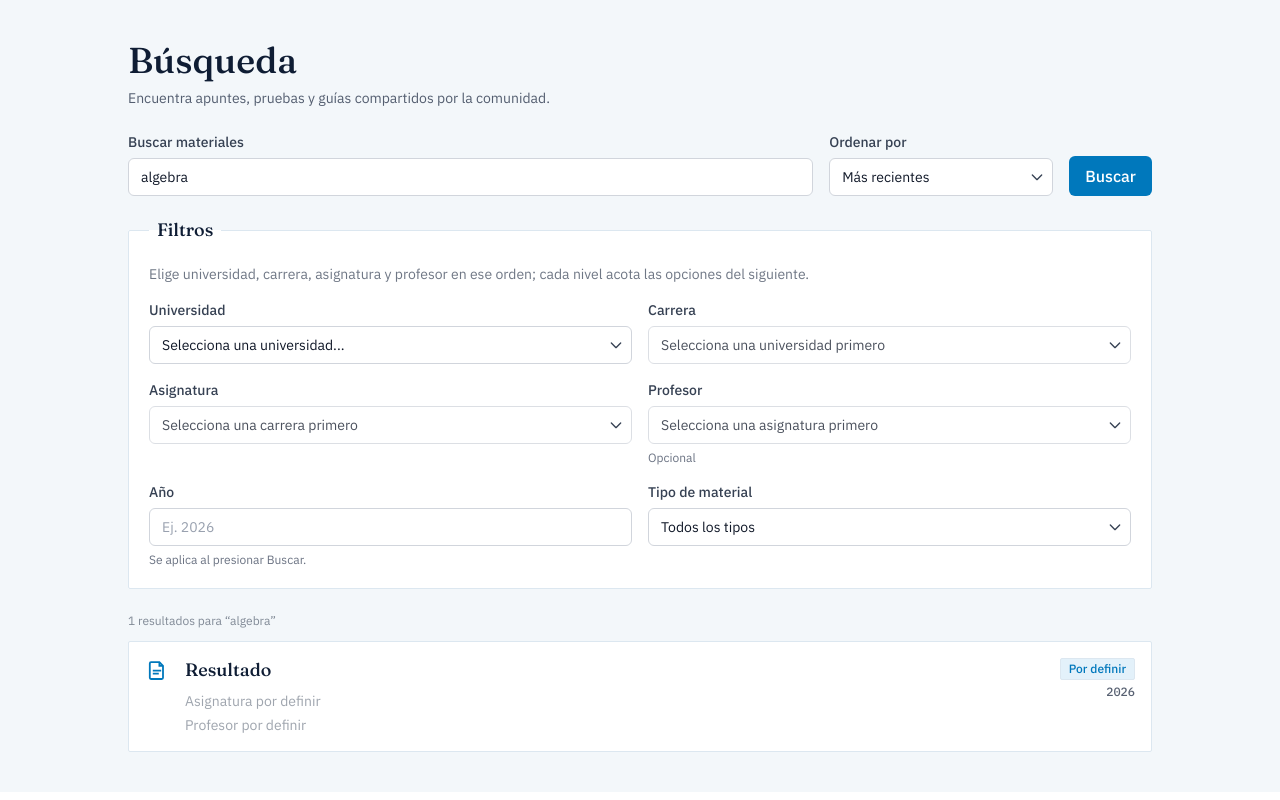
Test: SearchPage: filtros académicos › rechaza un año fuera de rango sin consultar al backend
Expected: the heading "Resultado" is shown, [185,658,271,681]
Type "1800" into the field labelled "Año" at (390, 527), box [149,508,632,546]
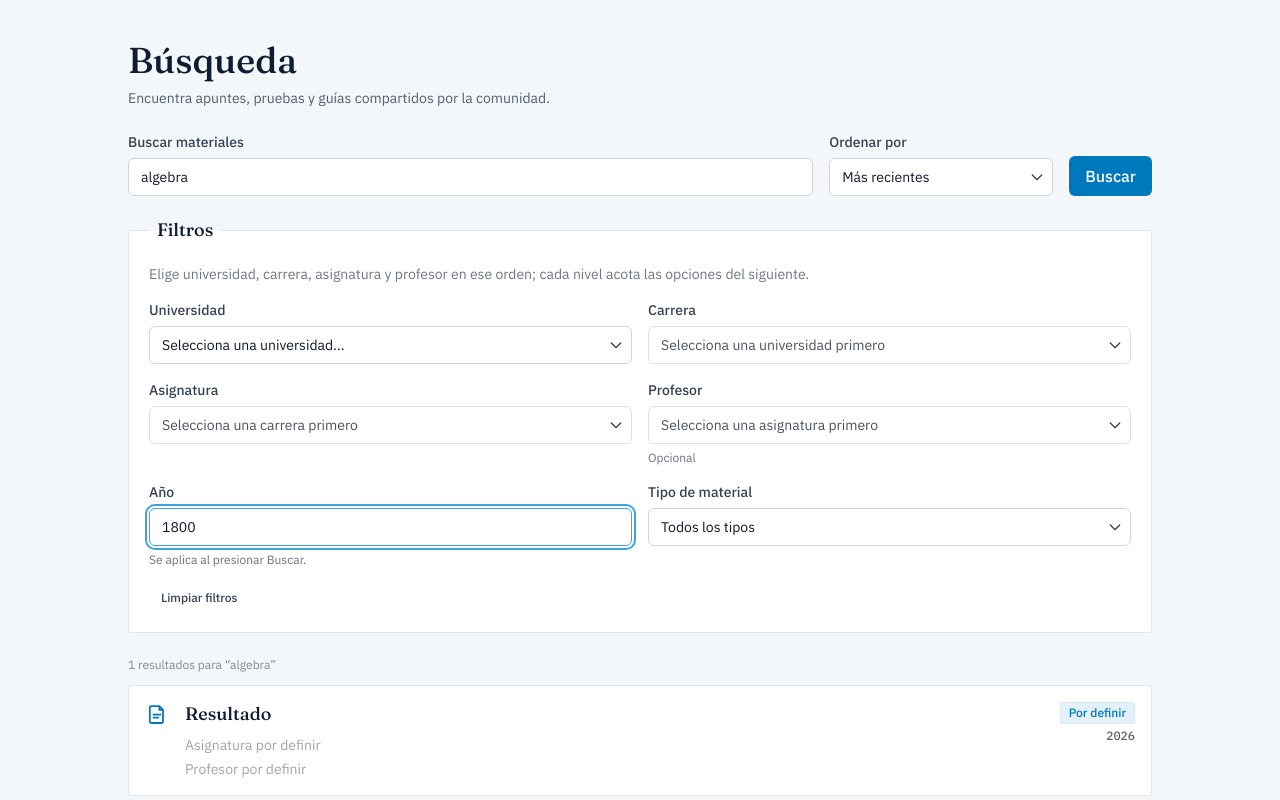
Click the button "Buscar" at (1111, 176), box [1069,156,1152,196]
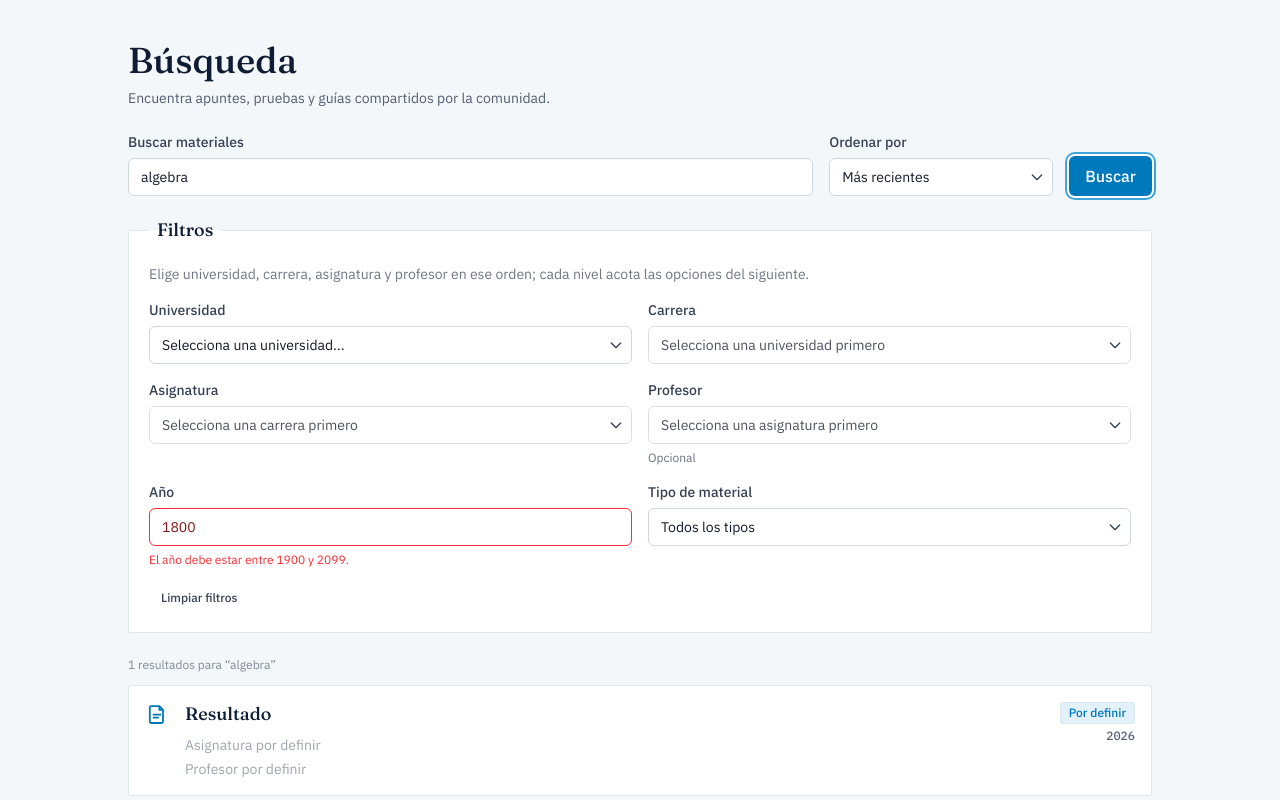
Result: the text "El año debe estar entre 1900 y 2099." is shown at [149,552,349,567]
